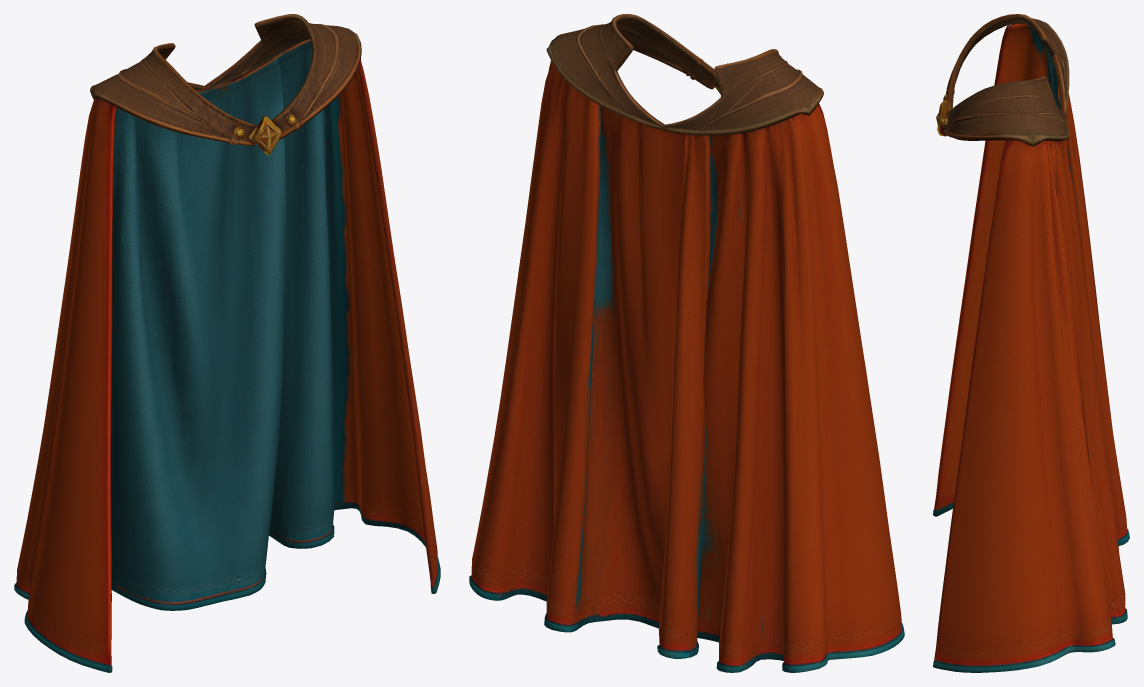
Rendered from warden-cloak-tripo.glb.
3 renders of one model, left to right at view 1: azimuth 30°, elevation 25°; view 2: azimuth 150°, elevation 25°; view 3: azimuth 270°, elevation 25°, orthographic. The views are drawn at different scales.
Visible parts, largest first — view 1: tripo_node_c305342b-a506-4ff2-b3d5-bb5c9c224532; view 2: tripo_node_c305342b-a506-4ff2-b3d5-bb5c9c224532; view 3: tripo_node_c305342b-a506-4ff2-b3d5-bb5c9c224532.
Boxes of the visible parts, x1,y1,x2,y2 form: tripo_node_c305342b-a506-4ff2-b3d5-bb5c9c224532: (14, 14, 440, 672); tripo_node_c305342b-a506-4ff2-b3d5-bb5c9c224532: (469, 14, 904, 672); tripo_node_c305342b-a506-4ff2-b3d5-bb5c9c224532: (933, 14, 1129, 672).
Bounding box in the file's own units: 0.7104 × 0.9995 × 0.3228.
1 material, 1 textured.
